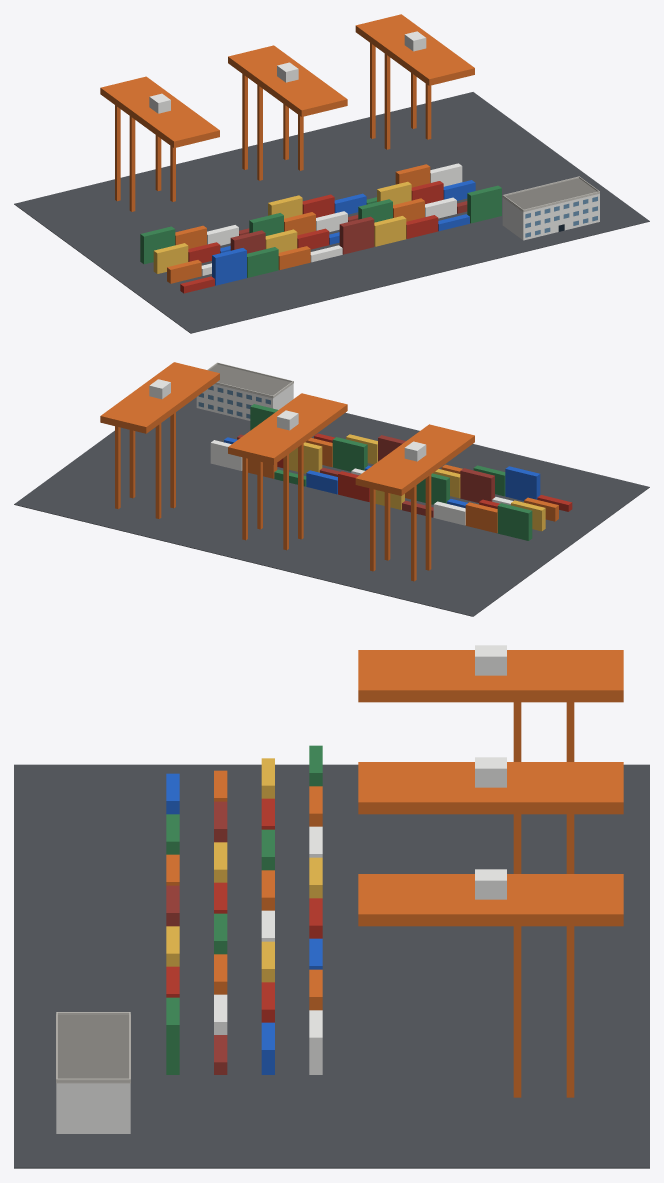
Rendered from terminal_conteneurs.glb.
3 renders of one model, top to bottom at view 1: azimuth 30°, elevation 25°; view 2: azimuth 150°, elevation 25°; view 3: azimuth 270°, elevation 25°, orthographic. The views are drawn at different scales.
Visible parts, largest first — view 1: terminal_conteneurs; view 2: terminal_conteneurs; view 3: terminal_conteneurs.
Boxes of the visible parts, bbox=[...] form: terminal_conteneurs: bbox=[14, 14, 649, 333]; terminal_conteneurs: bbox=[14, 362, 649, 616]; terminal_conteneurs: bbox=[14, 645, 649, 1168].
Bounding box in the file's own units: 180 × 42.5 × 120.
1 material, 1 textured.
